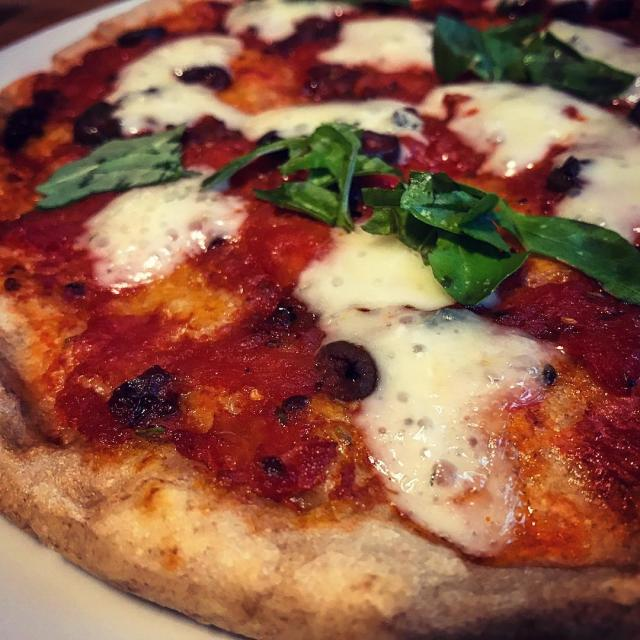basil: (362, 171, 640, 304), (202, 124, 398, 230), (432, 15, 634, 104), (36, 125, 185, 209)
black_olives: (109, 365, 178, 427), (316, 341, 378, 401), (74, 102, 121, 146), (2, 106, 46, 150), (546, 156, 590, 192), (176, 65, 232, 90), (361, 131, 400, 165), (116, 26, 166, 48), (346, 0, 411, 8)
pizza: (1, 1, 640, 640)
